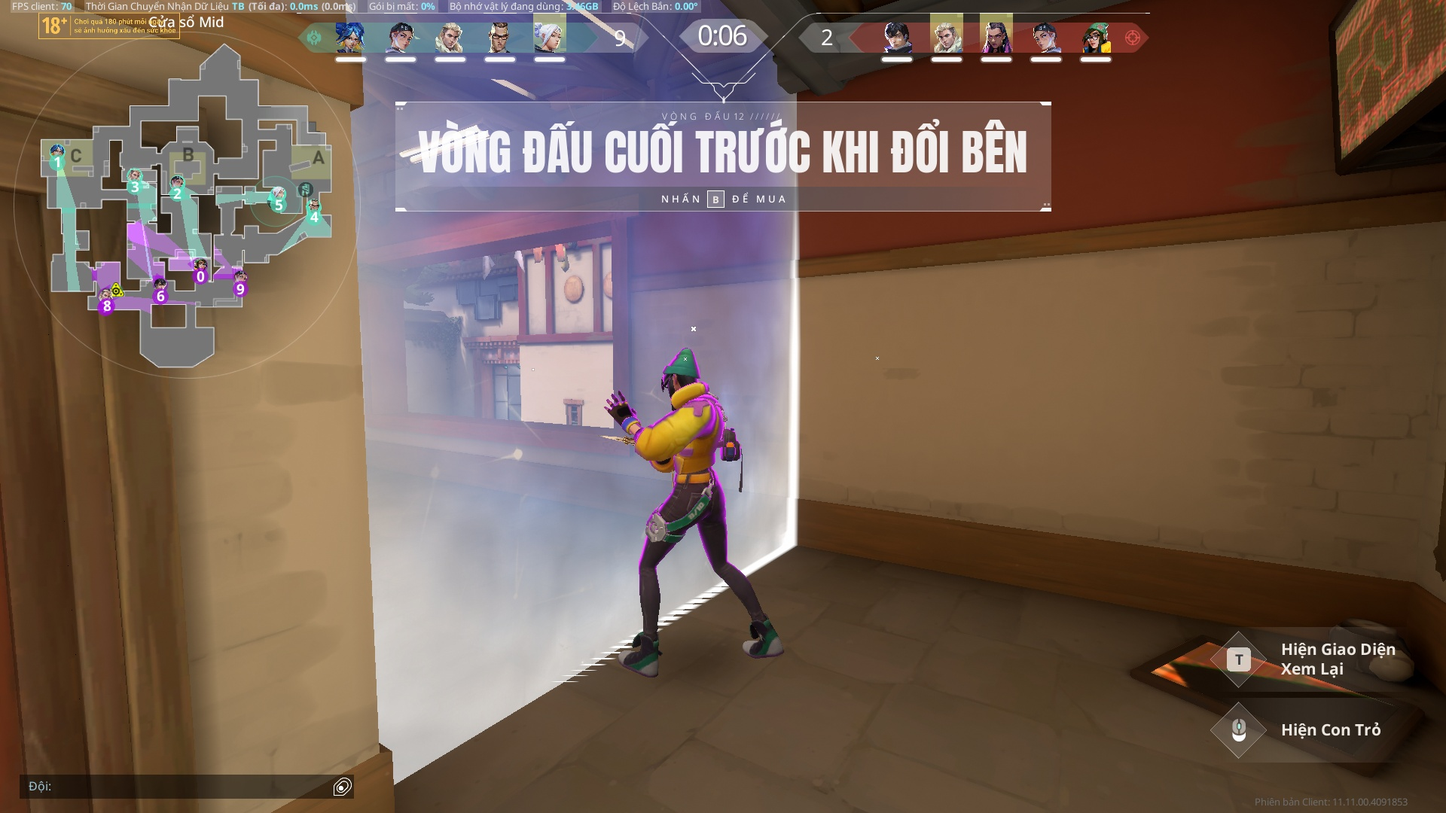body: (662, 391, 728, 474)
head: (659, 362, 701, 396)
